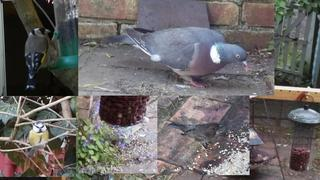blackbird: (168, 122, 223, 152)
blue tit: (26, 121, 49, 157)
goldfinch: (24, 27, 52, 90)
wood pigeon: (105, 27, 248, 89)
